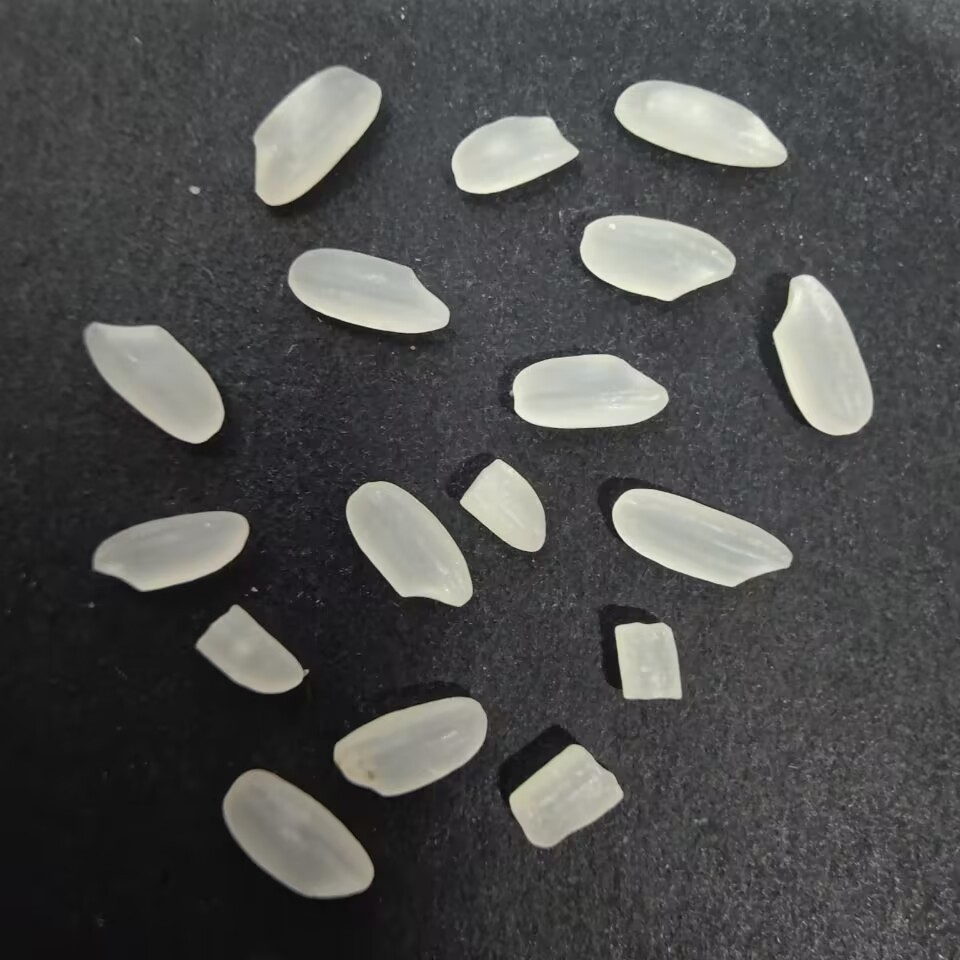broken: (504, 742, 626, 851), (446, 111, 584, 200), (189, 602, 314, 698), (454, 457, 553, 554), (605, 615, 689, 707)
rice: (216, 764, 377, 904), (78, 315, 233, 450), (249, 60, 385, 210), (607, 485, 797, 591), (342, 478, 476, 614), (609, 76, 791, 174), (770, 272, 877, 438), (331, 690, 493, 797), (282, 246, 459, 338), (573, 214, 742, 304), (84, 504, 250, 593), (508, 349, 675, 431)
